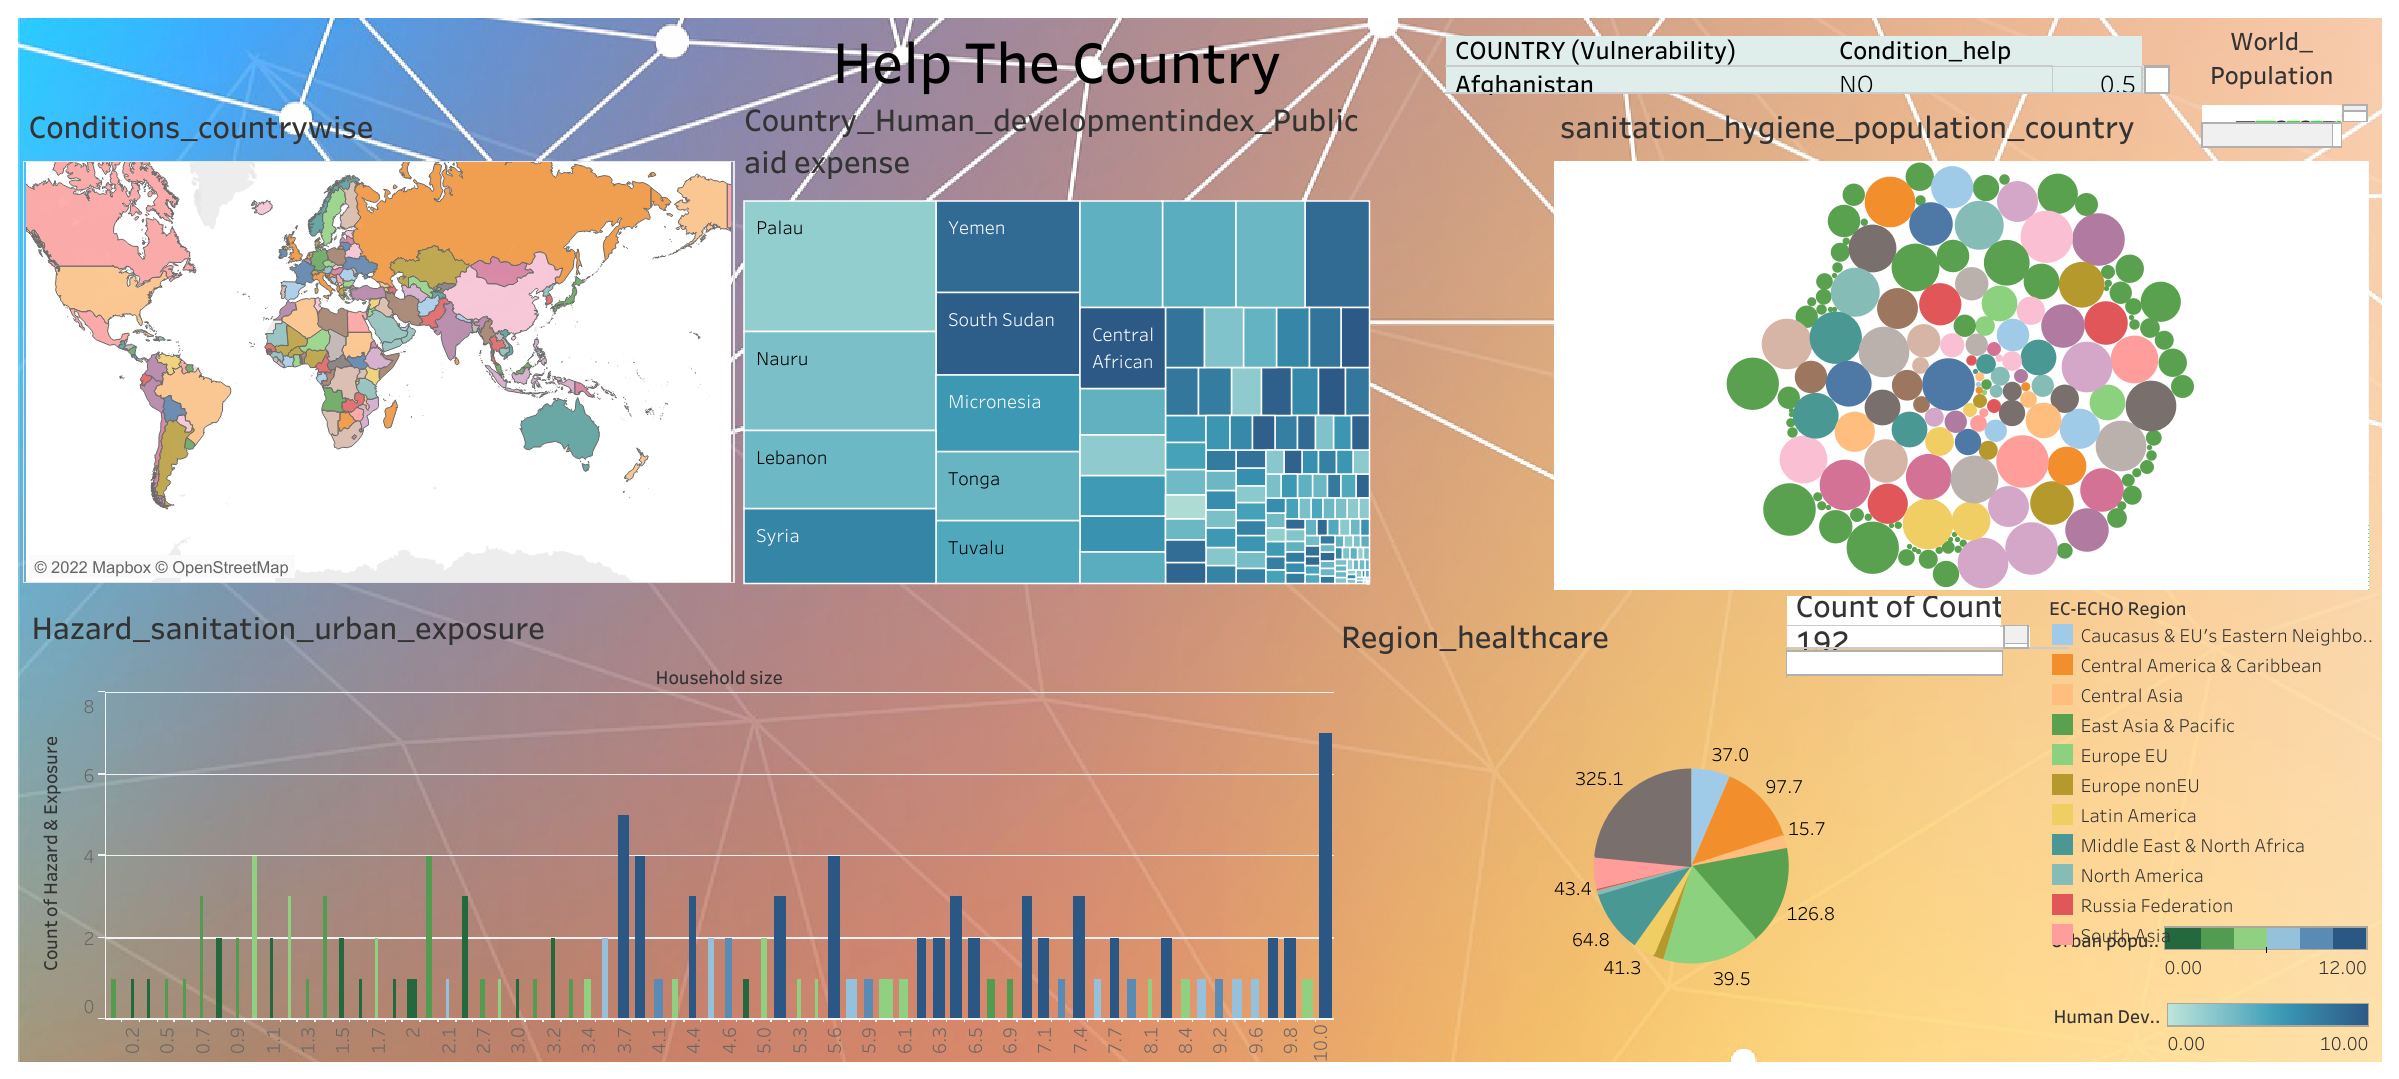

What the dashboard file says about the page in this screenshot:
{"tool":"tableau","page":{"name":"Help The country","canvas":[1000,1000],"units":"permille","ordinal":0},"visuals":[{"type":"image","param":"Image/Tableau-Background-2.png","box":[4.8,9.3,990.4,981.4]},{"type":"worksheet","title":"World_Population","mark":"Automatic","box":[917.4,12.8,69.4,124.4]},{"type":"text","box":[7.8,17.4,865.1,75.6]},{"type":"worksheet","title":"Help_index","mark":"Automatic","rows":["COUNTRY (Vulnerability)","Help_index (copy)_766174915971440644"],"box":[602.5,33.7,317.5,53.5]},{"type":"worksheet","title":"Country_Human_developmentindex_Public aid expense","mark":"Automatic","box":[307.2,81.4,341.4,466.3]},{"type":"worksheet","title":"Conditions_countrywise","mark":"Multipolygon","box":[9.3,88.4,296.8,452.3]},{"type":"worksheet","title":"sanitation_hygiene_population_country","mark":"Circle","box":[647.5,89.5,338.6,454.7]},{"type":"legend","title":"Region_healthcare","param":"[federated.1qdzv7r1xbfozx13e5vg41nebkfn].[none:EC-ECHO Region:nk]","box":[853.1,547.7,136.9,329.1]},{"type":"worksheet","title":"Number of countries","mark":"Automatic","rows":["F1"],"box":[744.5,551.2,101.1,75.6]},{"type":"worksheet","title":"Hazard_sanitation_urban_exposure","mark":"Automatic","rows":["Hazard & Exposure_CC7130AD254D4374A617C9D0696D8CF9"],"cols":["Household size"],"box":[10.4,552.3,544.9,432.6]},{"type":"worksheet","title":"Region_healthcare","mark":"Pie","box":[556.2,560.5,296.9,422.1]},{"type":"legend","title":"Hazard_sanitation_urban_exposure","param":"[federated.1qdzv7r1xbfozx13e5vg41nebkfn].[sum:Urban population growth:qk]","box":[854.5,852.3,135.1,53.5]},{"type":"legend","title":"Country_Human_developmentindex_Public aid expense","param":"[federated.1qdzv7r1xbfozx13e5vg41nebkfn].[sum:Human Development Index:qk]","box":[855.6,923.3,134.5,51.2]}]}

Visuals, with their boxes on the dashboard's canvas, which has no fixed pixel size, in thousandths of its width and height (x1, y1, x2, y2). These are canvas units, not pixel positions in the 2399x1079 screenshot, which may show the page scaled, cropped or inside an application window:
image: l=5, t=9, r=995, b=991
"World_Population" worksheet: l=917, t=13, r=987, b=137
text: l=8, t=17, r=873, b=93
"Help_index" worksheet: l=602, t=34, r=920, b=87
"Country_Human_developmentindex_Public aid expense" worksheet: l=307, t=81, r=649, b=548
"Conditions_countrywise" worksheet (Multipolygon marks): l=9, t=88, r=306, b=541
"sanitation_hygiene_population_country" worksheet (Circle marks): l=648, t=90, r=986, b=544
"Region_healthcare" legend: l=853, t=548, r=990, b=877
"Number of countries" worksheet: l=744, t=551, r=846, b=627
"Hazard_sanitation_urban_exposure" worksheet: l=10, t=552, r=555, b=985
"Region_healthcare" worksheet (Pie marks): l=556, t=560, r=853, b=983
"Hazard_sanitation_urban_exposure" legend: l=854, t=852, r=990, b=906
"Country_Human_developmentindex_Public aid expense" legend: l=856, t=923, r=990, b=974
